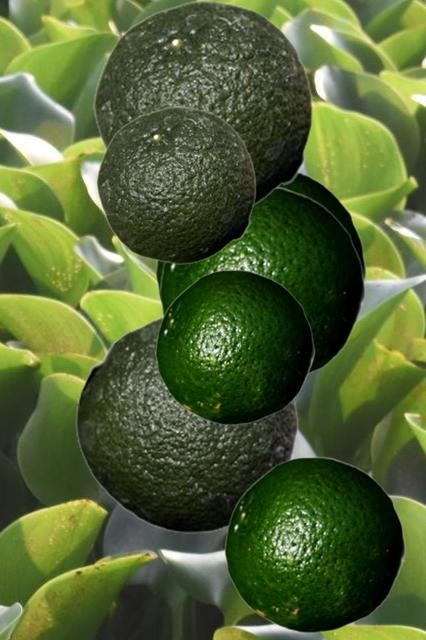calamansi: (75, 315, 298, 532), (93, 0, 312, 207), (159, 185, 365, 377), (224, 456, 405, 632), (155, 170, 366, 306), (96, 106, 255, 263), (155, 269, 314, 424)
